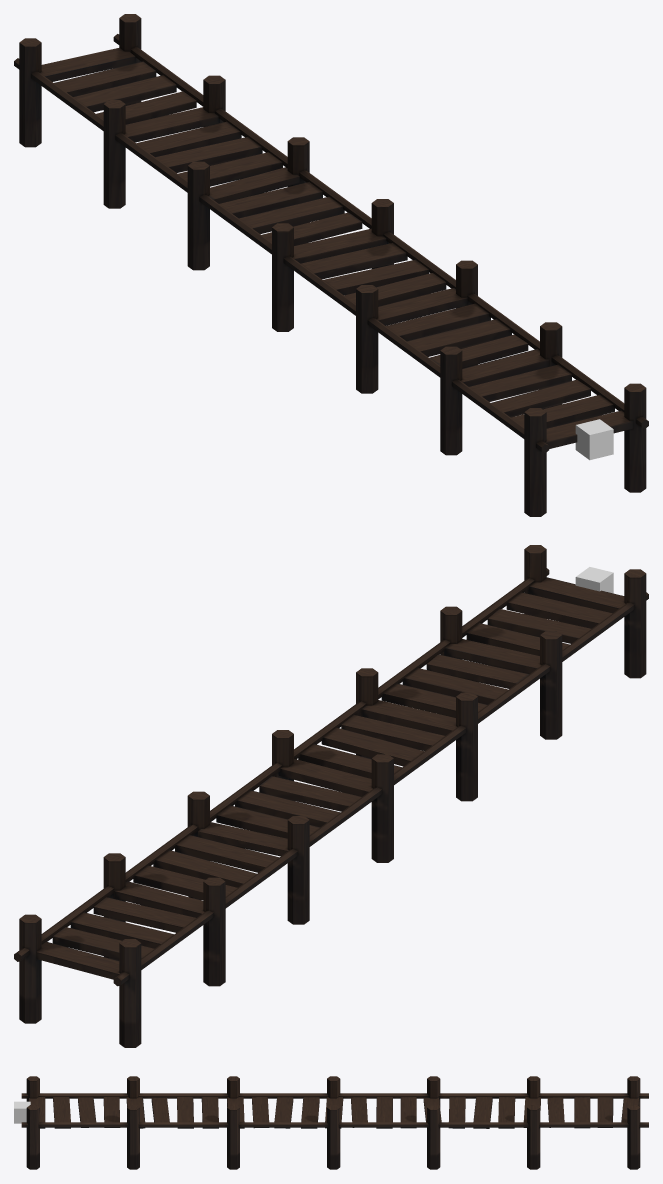
The model's file is port.glb.
3 views of the same model, one above another, from view 1: azimuth 30°, elevation 25°; view 2: azimuth 150°, elevation 25°; view 3: azimuth 270°, elevation 25° (orthographic). The views are drawn at different scales.
Parts seen in each view (by area): view 1: Cube_003, Cube; view 2: Cube_003, Cube; view 3: Cube_003, Cube.
Boxes of the visible parts, x1,y1,x2,y2 form: Cube_003: (14,14,648,516); Cube: (575,419,613,460); Cube_003: (14,545,648,1047); Cube: (575,567,613,593); Cube_003: (21,1076,648,1169); Cube: (14,1101,30,1123).
Size of the model in its own units: 9.69 by 8 by 76.95.
4 materials, 3 textured.
